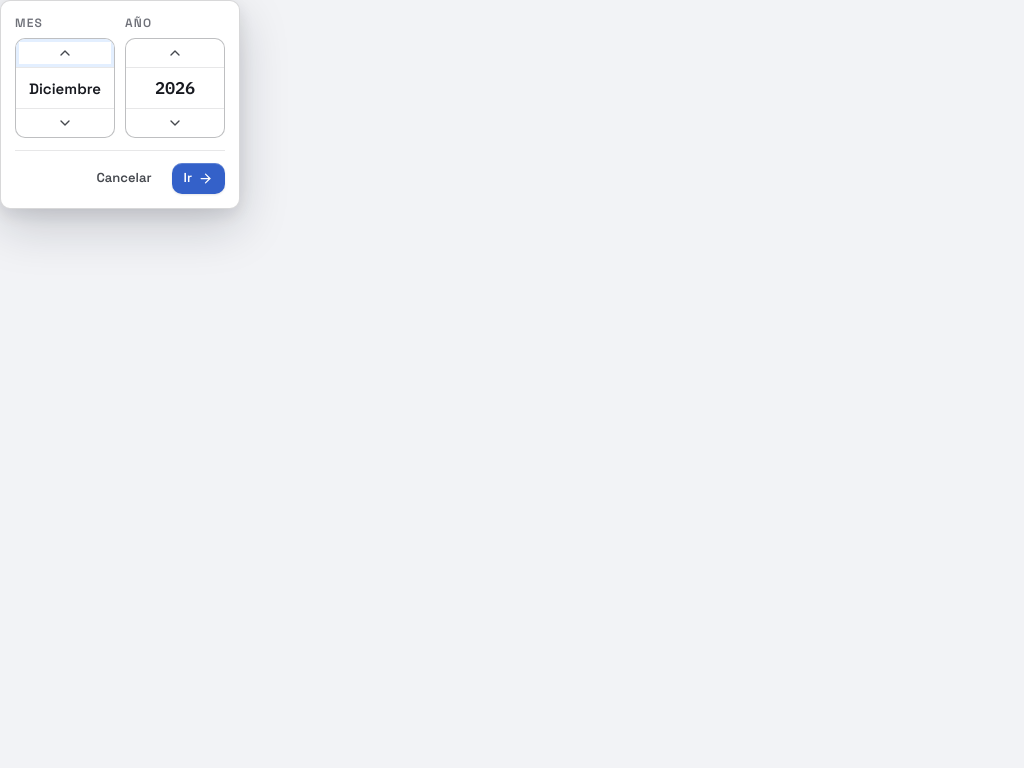
Test: MonthJumpPanel › ▲ en Diciembre wrappea a Enero SIN modificar el año (ruedas independientes)
The image size is (1024, 768).
Expected: the dialog is shown, left=0, top=0, right=240, bottom=209
Click the button named "Mes siguiente". click: [65, 53]
box: left=16, top=39, right=114, bottom=67
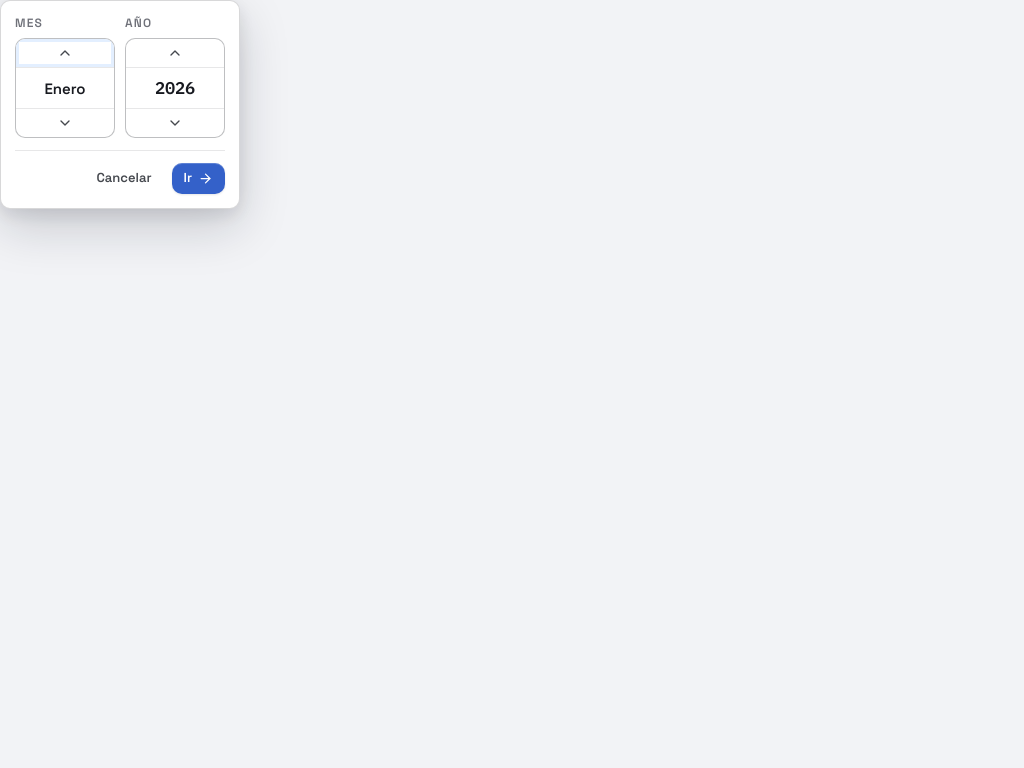
Expected: the field named "Año" holds "2026", left=126, top=68, right=224, bottom=108
Result: the text "Enero" is shown at left=44, top=78, right=86, bottom=98
